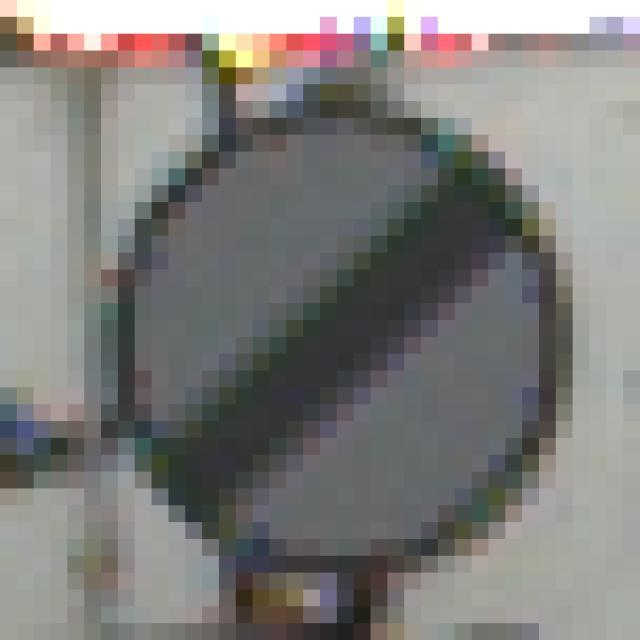restriction ends: (116, 94, 587, 582)
